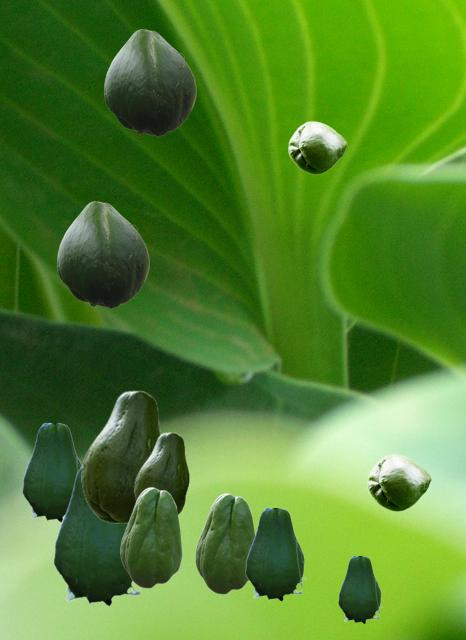sayote: (53, 467, 141, 608), (81, 390, 162, 522), (104, 29, 195, 136), (57, 201, 148, 308), (120, 487, 181, 587), (195, 493, 255, 593), (22, 423, 81, 523), (245, 508, 305, 602), (134, 432, 188, 514), (367, 454, 430, 510), (288, 121, 346, 173), (338, 556, 381, 624)
